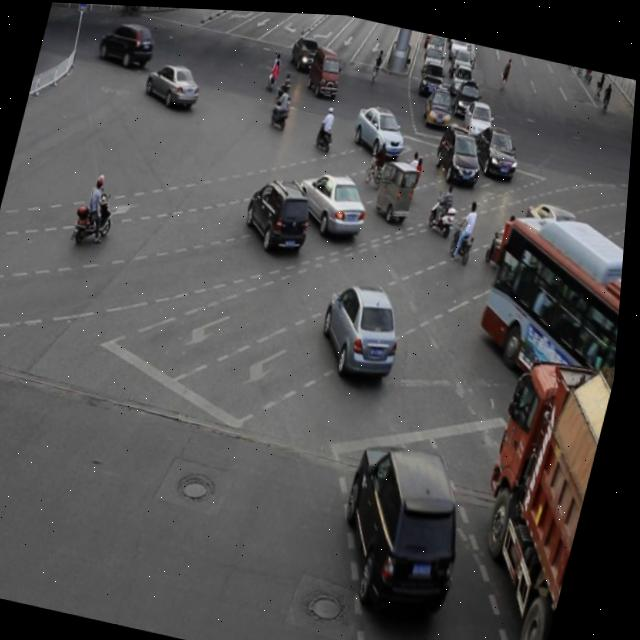bus: (448, 345, 621, 640)
car: (333, 430, 487, 617), (317, 273, 414, 378), (241, 169, 321, 254), (290, 161, 376, 237), (517, 192, 588, 257), (431, 118, 489, 183), (350, 98, 413, 156), (142, 56, 207, 112), (467, 116, 525, 176)
van: (470, 198, 629, 400)
